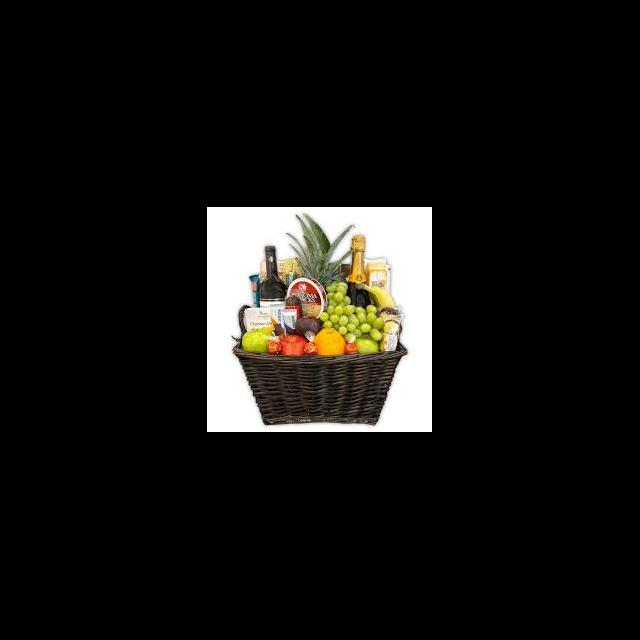grape: (320, 282, 384, 344)
